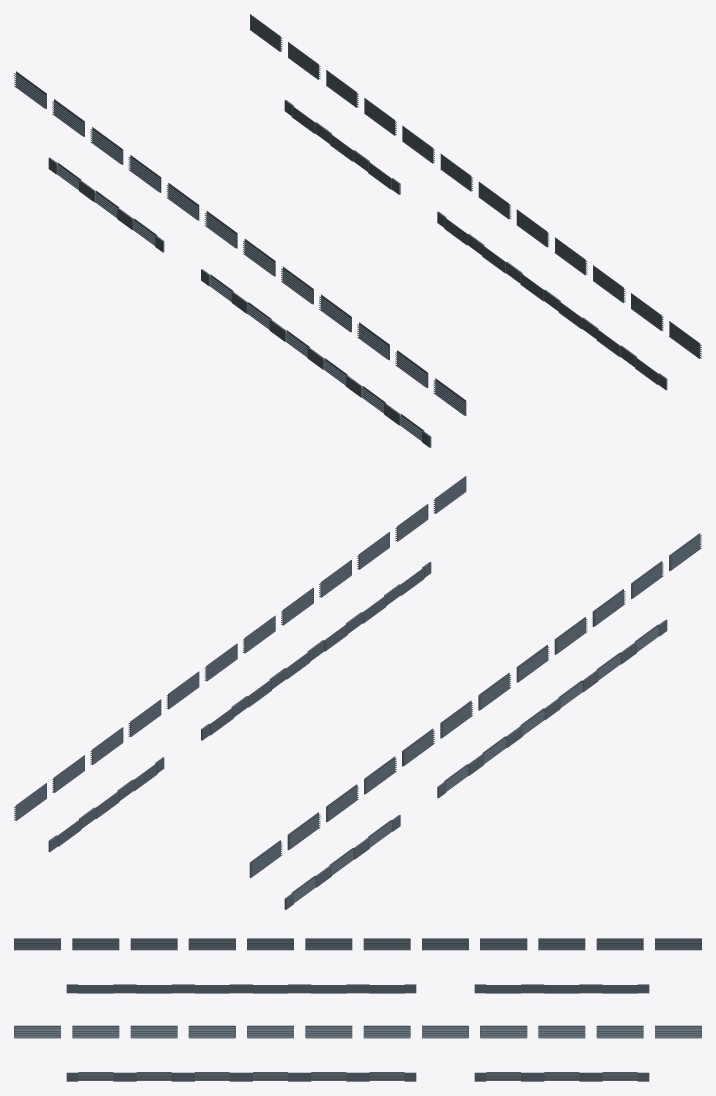
File: kisi.glb
The picture shows the model from 3 angles, top to bottom: view 1: azimuth 30°, elevation 25°; view 2: azimuth 150°, elevation 25°; view 3: azimuth 270°, elevation 25°; orthographic projection. The views are drawn at different scales.
Visible parts, largest first — view 1: kisi; view 2: kisi; view 3: kisi.
Boxes of the visible parts, x1=… form: kisi: x1=14, y1=14, x2=701, y2=447; kisi: x1=14, y1=476, x2=701, y2=909; kisi: x1=14, y1=938, x2=701, y2=1081.
Bounding box in the file's own units: 18.04 × 5.24 × 59.04.
